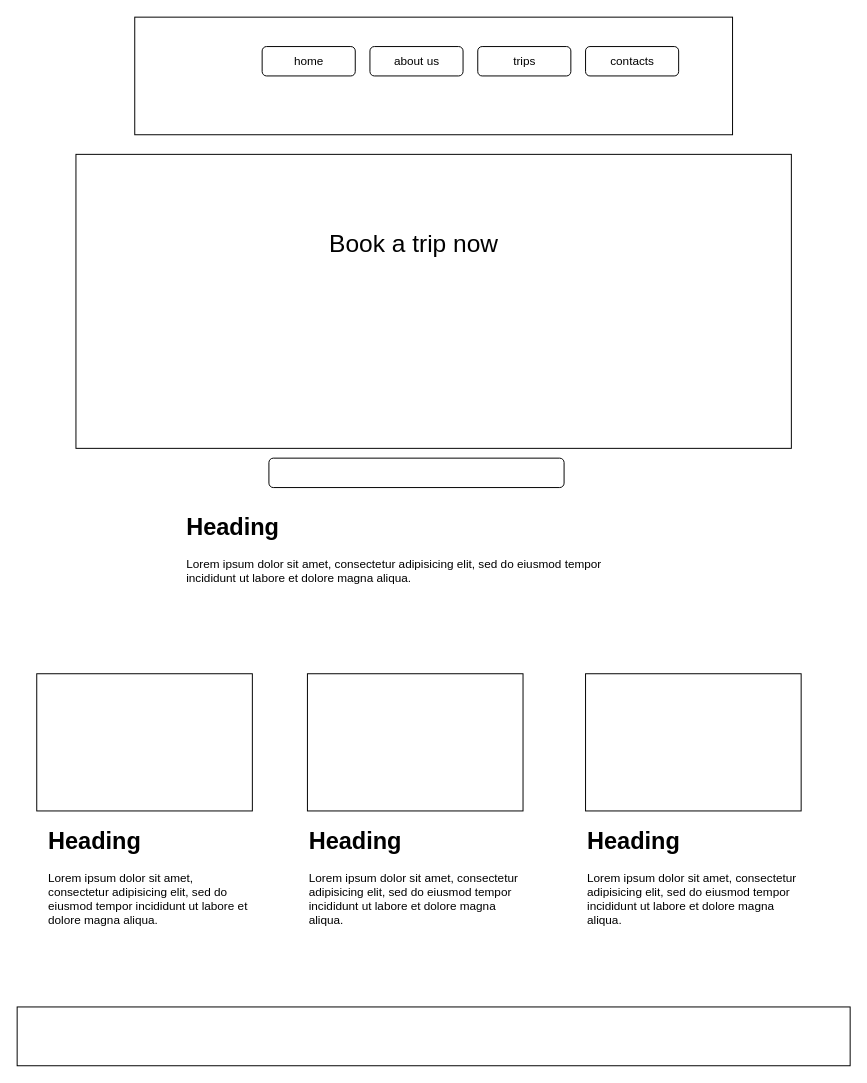
This 867x1083 diagram has some shape labels left out. The centre of each missing label's shape, as x and y in pixels:
"BOOK NOW" goes at point (416, 472).
"Footer content including social media icons" goes at point (433, 1036).
